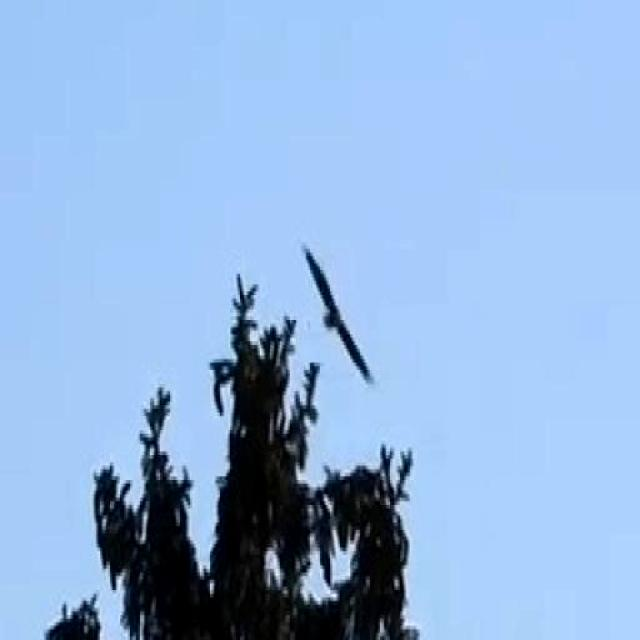airplane: (298, 224, 399, 389)
